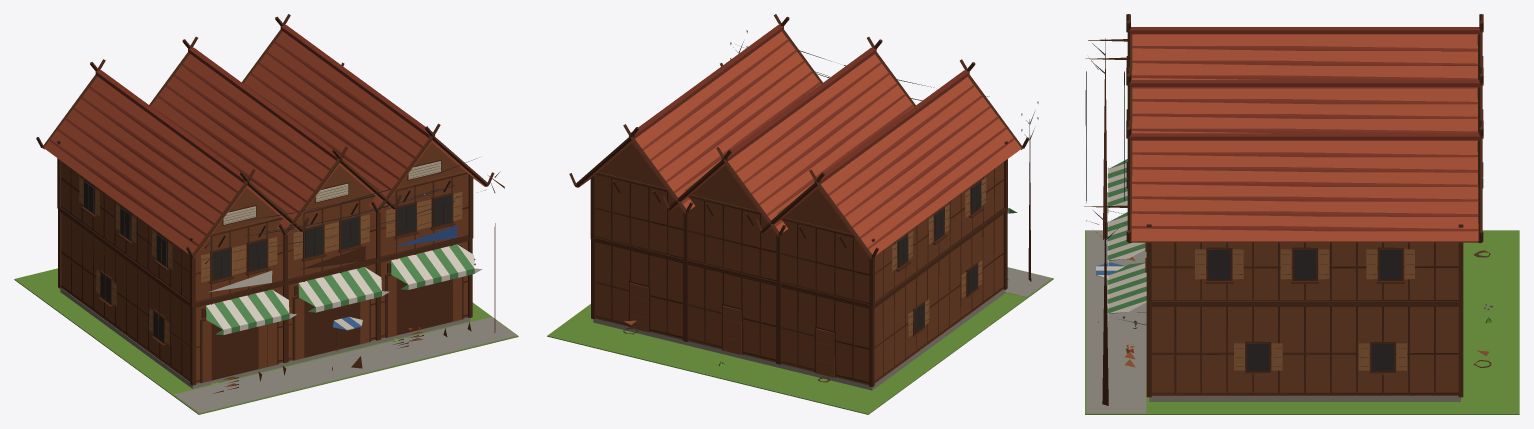
File: shop_3.glb
The picture shows the model from 3 angles, left to right: view 1: azimuth 30°, elevation 25°; view 2: azimuth 150°, elevation 25°; view 3: azimuth 270°, elevation 25°; orthographic projection. The views are drawn at different scales.
Parts seen in each view (by area): view 1: body, windows; view 2: body, windows; view 3: body, windows.
Boxes of the visible parts, x1,y1,x2,y2 form: body: (14, 14, 518, 414); windows: (84, 181, 474, 341); body: (547, 14, 1053, 414); windows: (898, 182, 981, 333); body: (1084, 14, 1519, 414); windows: (1134, 249, 1401, 371).
Bounding box in the file's own units: 15.9 × 10.4 × 16.
